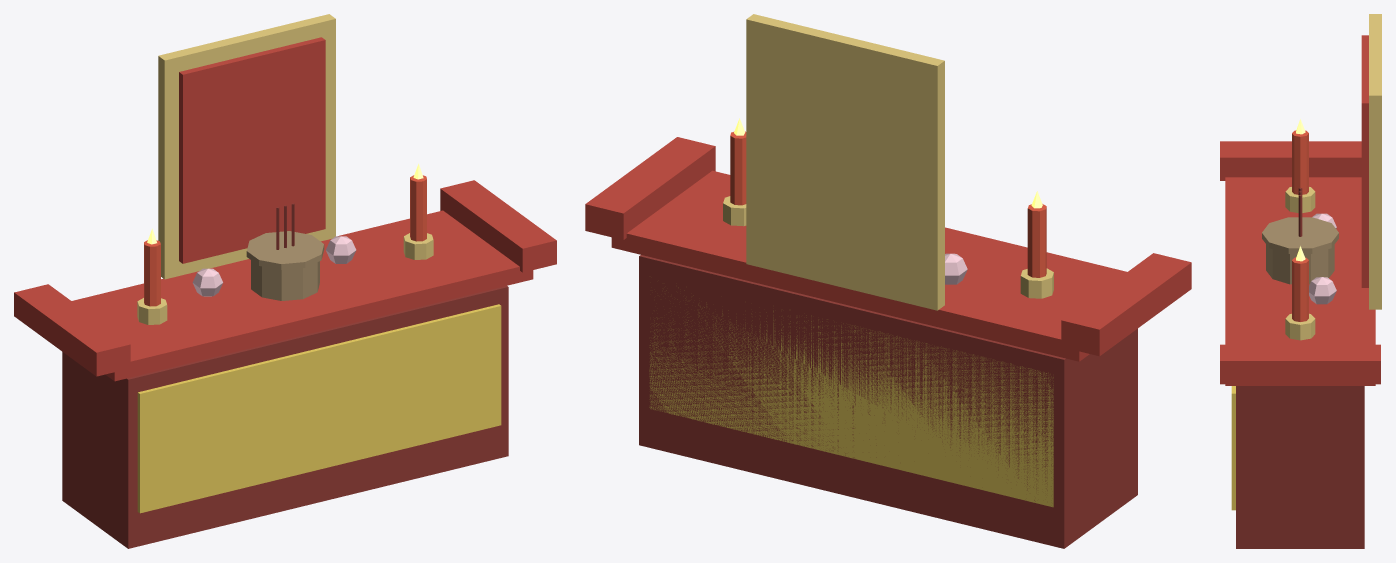
Rendered from cn_altar.glb.
The picture shows the model from 3 angles, left to right: view 1: azimuth 30°, elevation 25°; view 2: azimuth 150°, elevation 25°; view 3: azimuth 270°, elevation 25°; orthographic projection. The views are drawn at different scales.
Parts seen in each view (by area): view 1: cn_altar; view 2: cn_altar; view 3: cn_altar.
Part boxes in pixels (x1,y1,x2,y2): cn_altar: (14,14,556,548); cn_altar: (585,14,1191,548); cn_altar: (1220,14,1381,548).
Bounding box in the file's own units: 2.42 × 2.07 × 0.7549.
